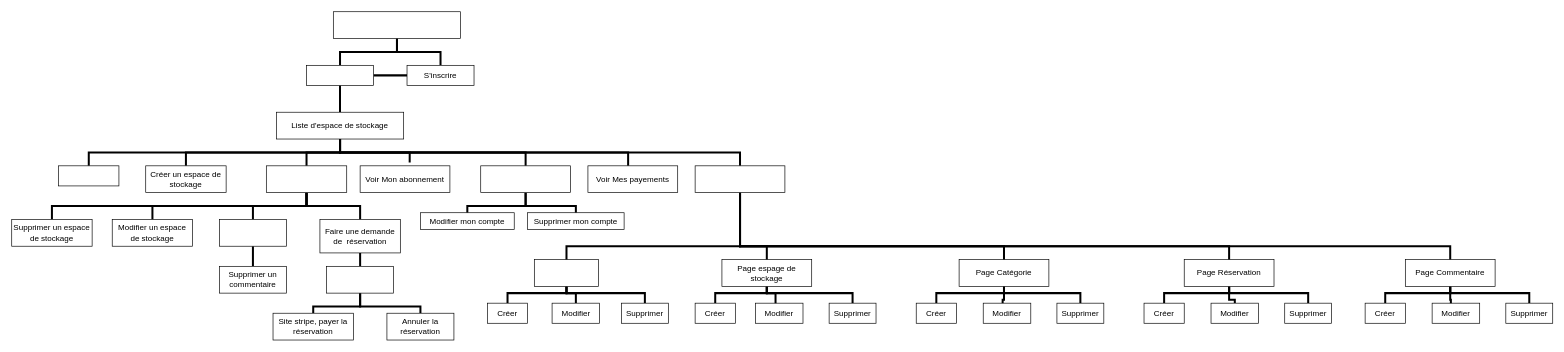
This 1564x352 diagram has some shape labels left out. The centre of each missing label's shape, as x and y in pixels:
"Admistration Dasboard" goes at [739,179].
"Ajoute un commentaire" goes at [252,232].
"Déconnexion" goes at [88,175].
"Page d'accueil, liste d'espace de stockage" goes at [397,25].
"Page Utilisateur" goes at [566,272].
"Se connecter" goes at [340,75].
"Voir la réservation" goes at [360,279].
"Voir mon compte" goes at [525,179].
"Voir un espace de stockage" goes at [306,179].
